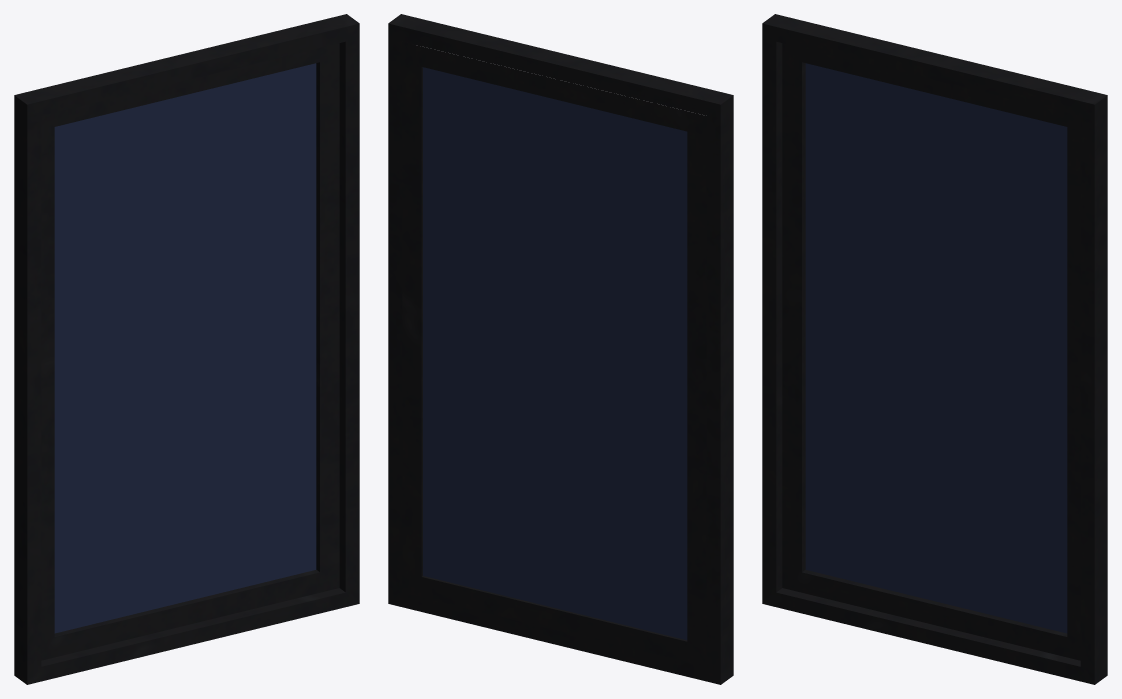
File: sb_obj_ModernCity027_window_a2.fbx
3 views of the same model, side by side, from view 1: azimuth 30°, elevation 25°; view 2: azimuth 150°, elevation 25°; view 3: azimuth 330°, elevation 25° (orthographic).
Parts seen in each view (by area): view 1: sb_obj_ModernCity027_window_a2; view 2: sb_obj_ModernCity027_window_a2; view 3: sb_obj_ModernCity027_window_a2.
Boxes of the visible parts, x1,y1,x2,y2 form: sb_obj_ModernCity027_window_a2: (14, 14, 359, 684); sb_obj_ModernCity027_window_a2: (388, 14, 733, 684); sb_obj_ModernCity027_window_a2: (762, 14, 1107, 684).
Size of the model in its own units: 1 by 1.67 by 0.0678.
